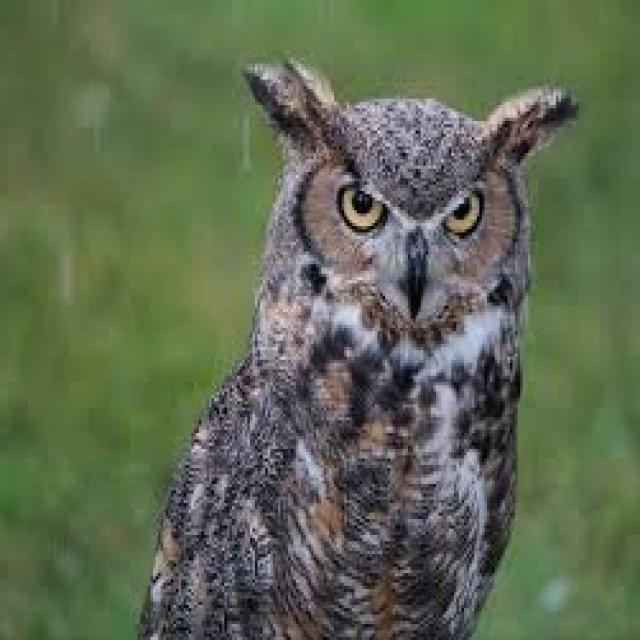owl: (140, 60, 579, 637)
